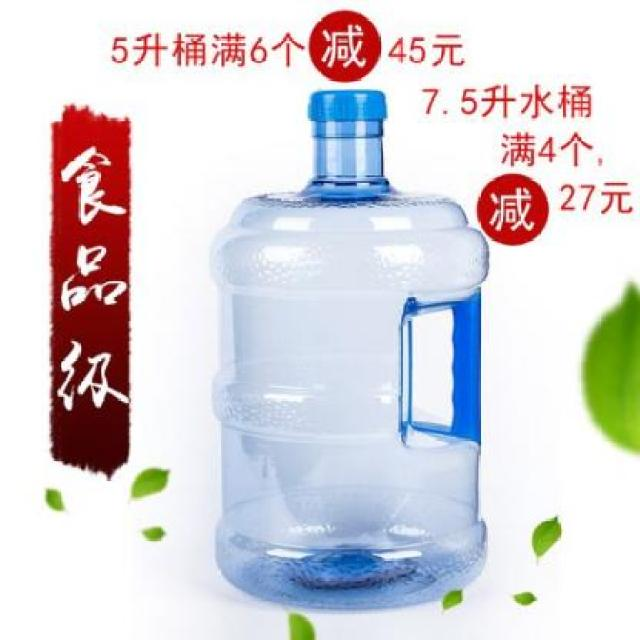coolerbottle: (201, 83, 494, 616)
